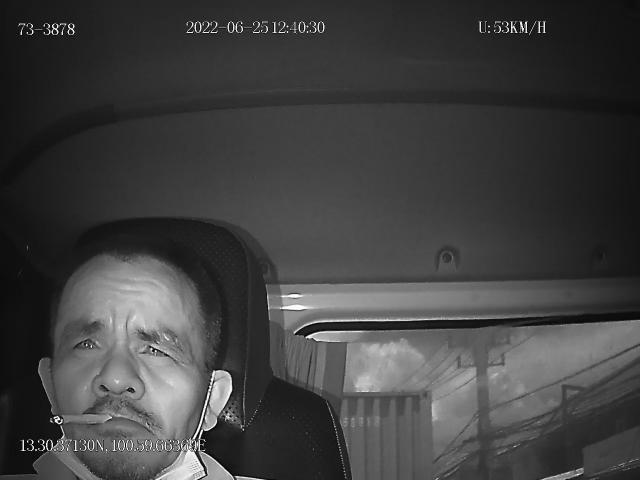SafeDriving: (131, 328, 179, 366), (64, 324, 108, 362)
Smoking: (47, 414, 113, 426)
